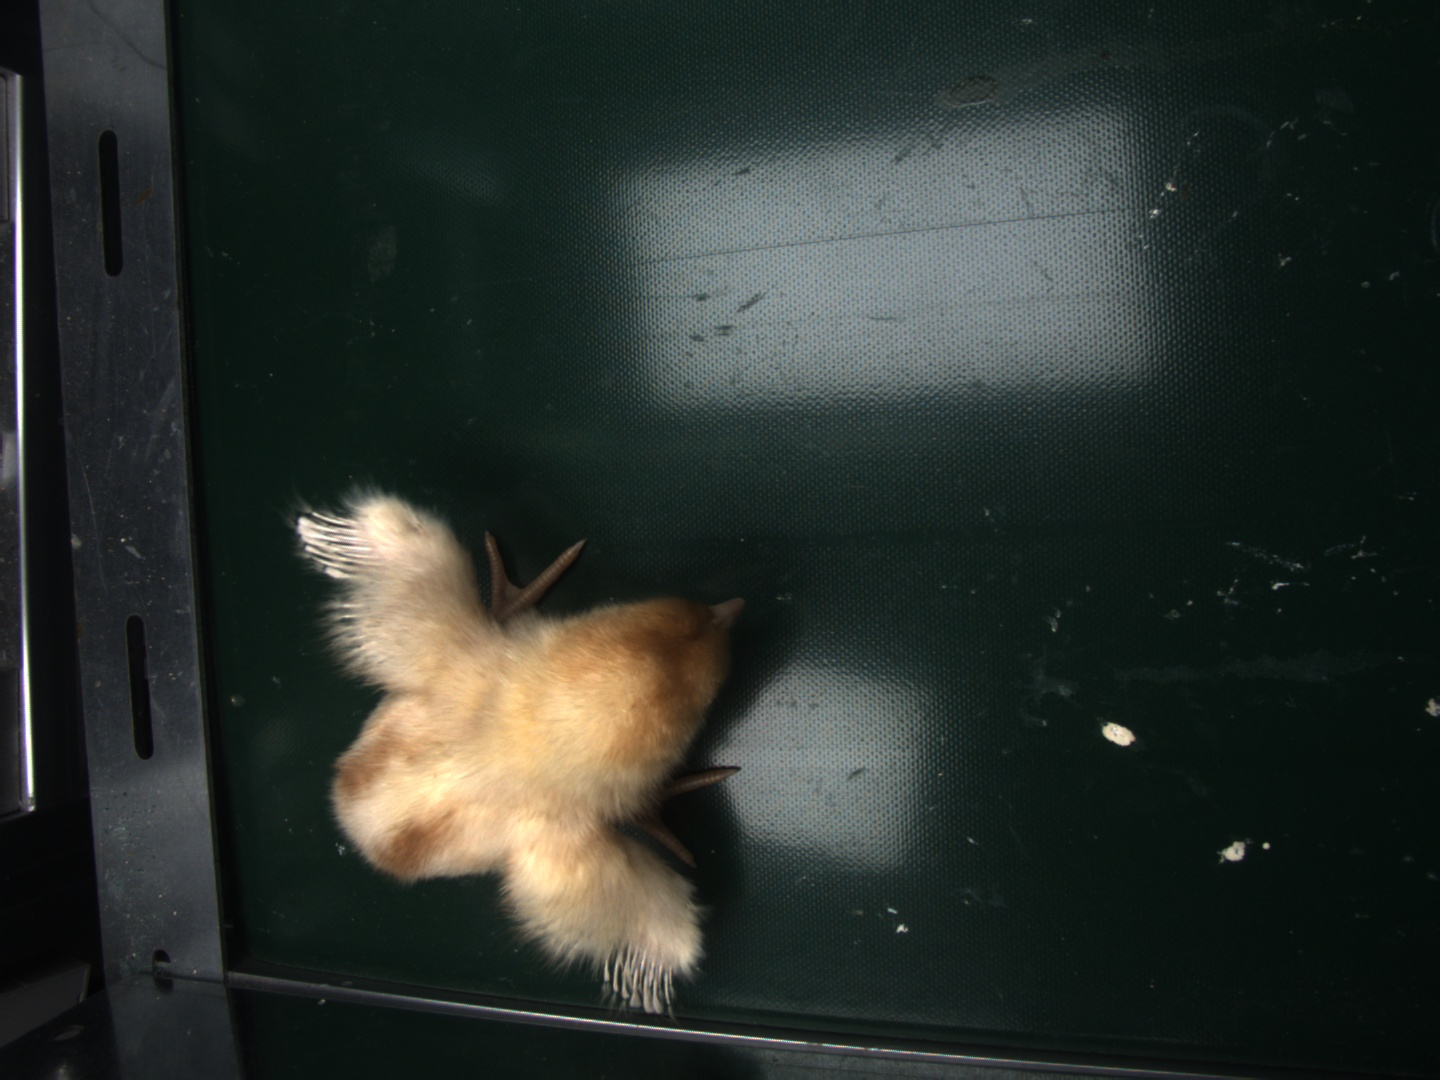female: (600, 936, 677, 1018), (305, 503, 373, 580)
